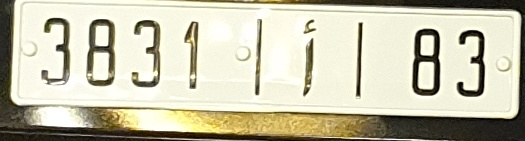1: (182, 19, 199, 89)
3: (455, 27, 487, 101), (130, 19, 162, 88), (40, 16, 71, 85)
8: (87, 18, 115, 87), (414, 26, 441, 97)
a: (300, 18, 316, 99)
